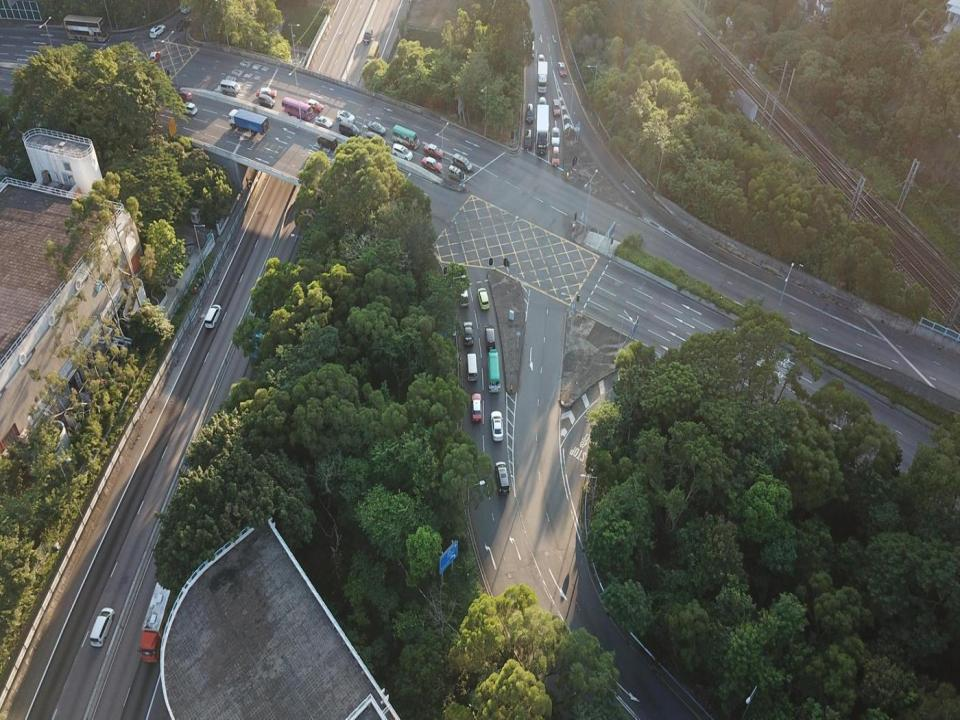bus: (64, 14, 109, 43), (282, 95, 313, 122), (392, 124, 419, 149), (487, 348, 500, 393), (365, 41, 380, 70)
car: (90, 608, 114, 648), (391, 142, 413, 160), (491, 410, 503, 442), (422, 156, 442, 173), (477, 287, 490, 310), (303, 98, 324, 112), (423, 144, 444, 158), (472, 393, 482, 422), (448, 164, 465, 181), (462, 321, 474, 345), (178, 101, 198, 115), (367, 132, 387, 145), (336, 110, 355, 123), (367, 122, 386, 135), (256, 86, 276, 98), (315, 115, 333, 128), (149, 24, 165, 38), (176, 18, 192, 32), (150, 48, 161, 66), (363, 25, 373, 44), (552, 145, 560, 167), (175, 90, 192, 100), (552, 99, 561, 116), (557, 60, 566, 76), (552, 127, 560, 144), (538, 96, 546, 110), (538, 54, 545, 68)
truck: (137, 573, 179, 663), (228, 107, 270, 136), (250, 308, 271, 361), (536, 103, 549, 156), (537, 60, 548, 93)
van: (495, 461, 510, 495), (205, 304, 222, 329), (453, 152, 473, 172), (339, 120, 359, 139), (466, 353, 478, 382), (316, 133, 336, 150), (484, 324, 495, 353), (221, 79, 240, 95), (258, 93, 275, 108), (459, 285, 470, 308), (524, 128, 532, 151), (526, 103, 534, 124), (528, 38, 534, 62)
